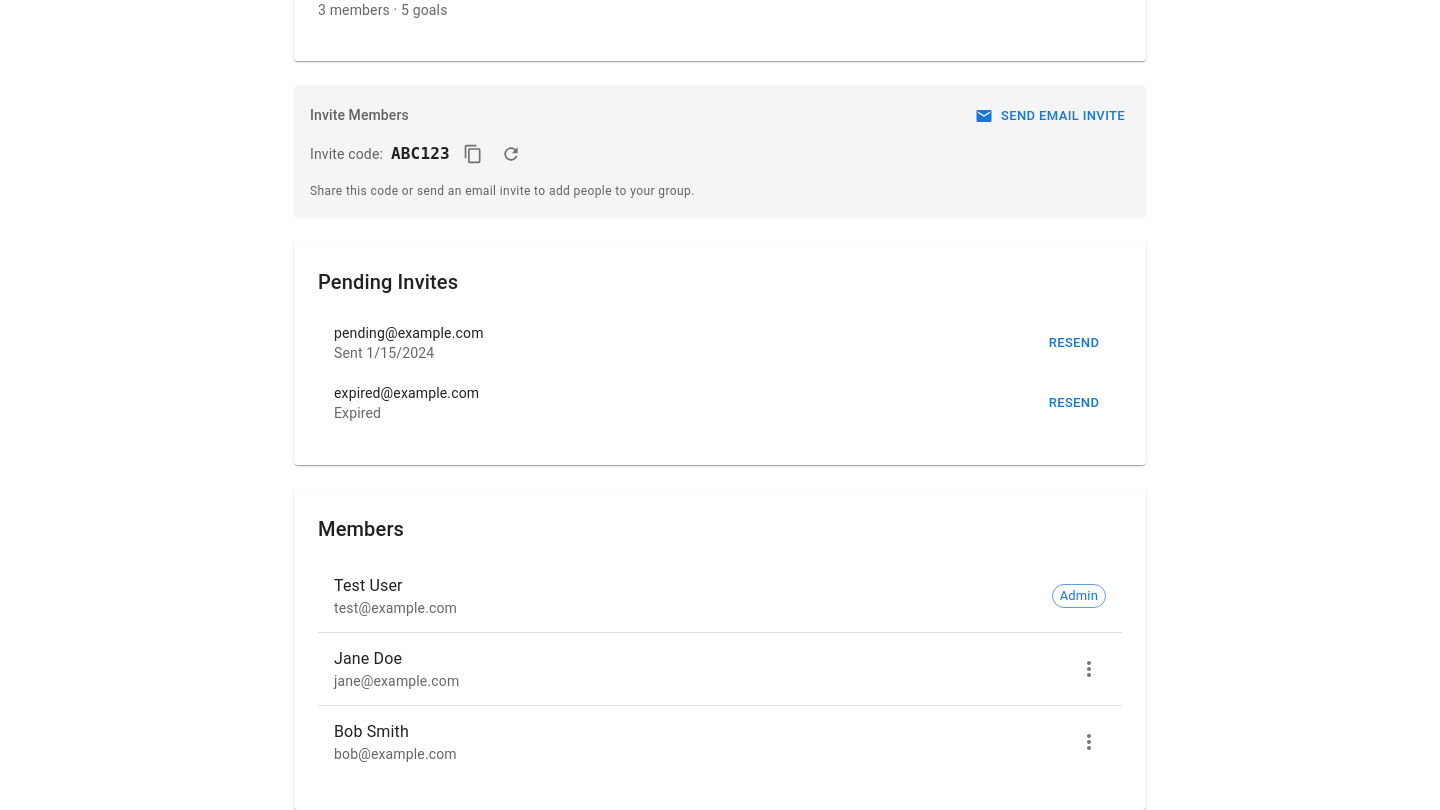
Test: GroupDetail › when logged in as admin › member management › opens member menu when clicking more icon
(page scrolled)
Expected: the text "Jane Doe" is shown, left=334, top=649, right=402, bottom=668
Click the button without text in the row of "Jane Doe".
click(1089, 669)  # box left=1072, top=652, right=1106, bottom=686
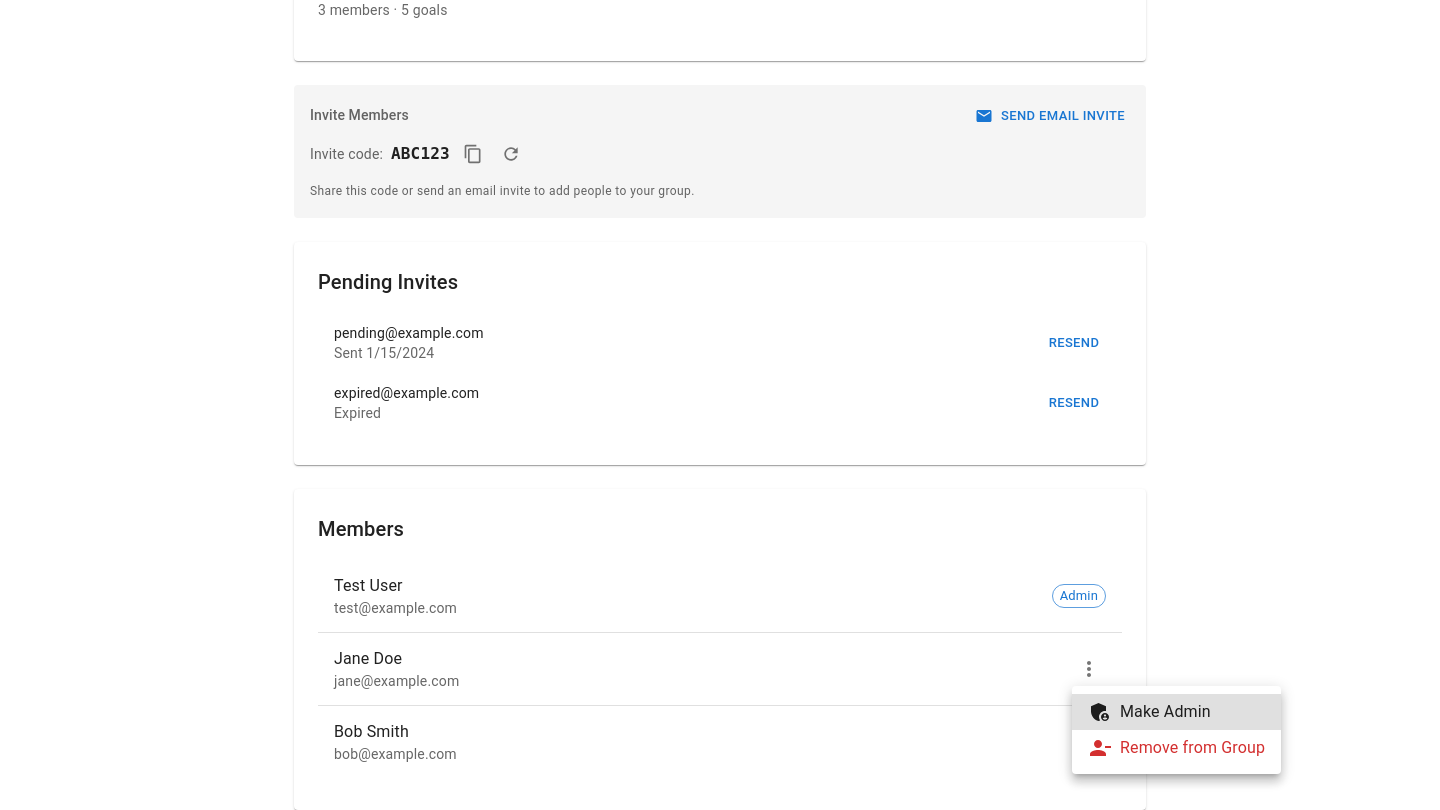
Now the menu item "Make Admin" is shown, box left=1072, top=694, right=1281, bottom=730
Now the menu item "Remove from Group" is shown, box left=1088, top=736, right=1265, bottom=760
